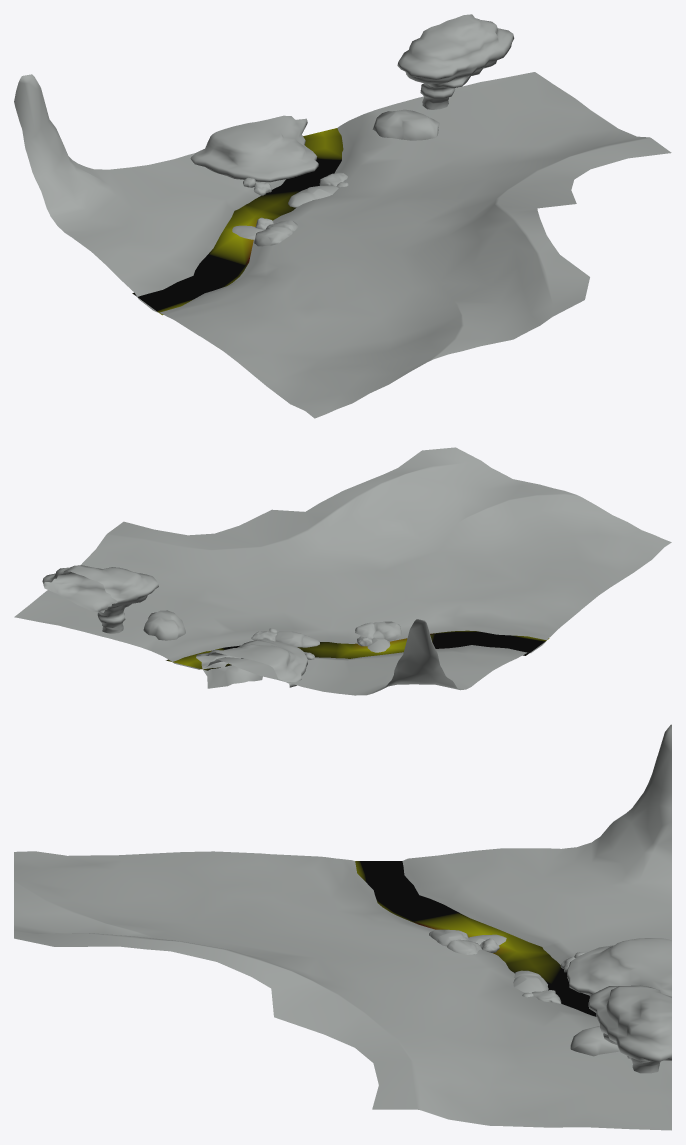
3 views of the same model, one above another, from view 1: azimuth 30°, elevation 25°; view 2: azimuth 150°, elevation 25°; view 3: azimuth 270°, elevation 25° (orthographic). The views are drawn at different scales.
Visible parts, largest first — view 1: G:\FFXIV-MapTools\exports\w1f4\bg\ffxiv\wil_w1\fld\w1f4\bgpl (×15); view 2: G:\FFXIV-MapTools\exports\w1f4\bg\ffxiv\wil_w1\fld\w1f4\bgpl (×17); view 3: G:\FFXIV-MapTools\exports\w1f4\bg\ffxiv\wil_w1\fld\w1f4\bgpl (×16).
Part boxes in pixels (bbox=[...]): G:\FFXIV-MapTools\exports\w1f4\bg\ffxiv\wil_w1\fld\w1f4\bgpl (×15): bbox=[14, 14, 671, 418]; G:\FFXIV-MapTools\exports\w1f4\bg\ffxiv\wil_w1\fld\w1f4\bgpl (×17): bbox=[14, 447, 671, 695]; G:\FFXIV-MapTools\exports\w1f4\bg\ffxiv\wil_w1\fld\w1f4\bgpl (×16): bbox=[14, 724, 671, 1130].
Size of the model in its own units: 128 by 35.56 by 128.
